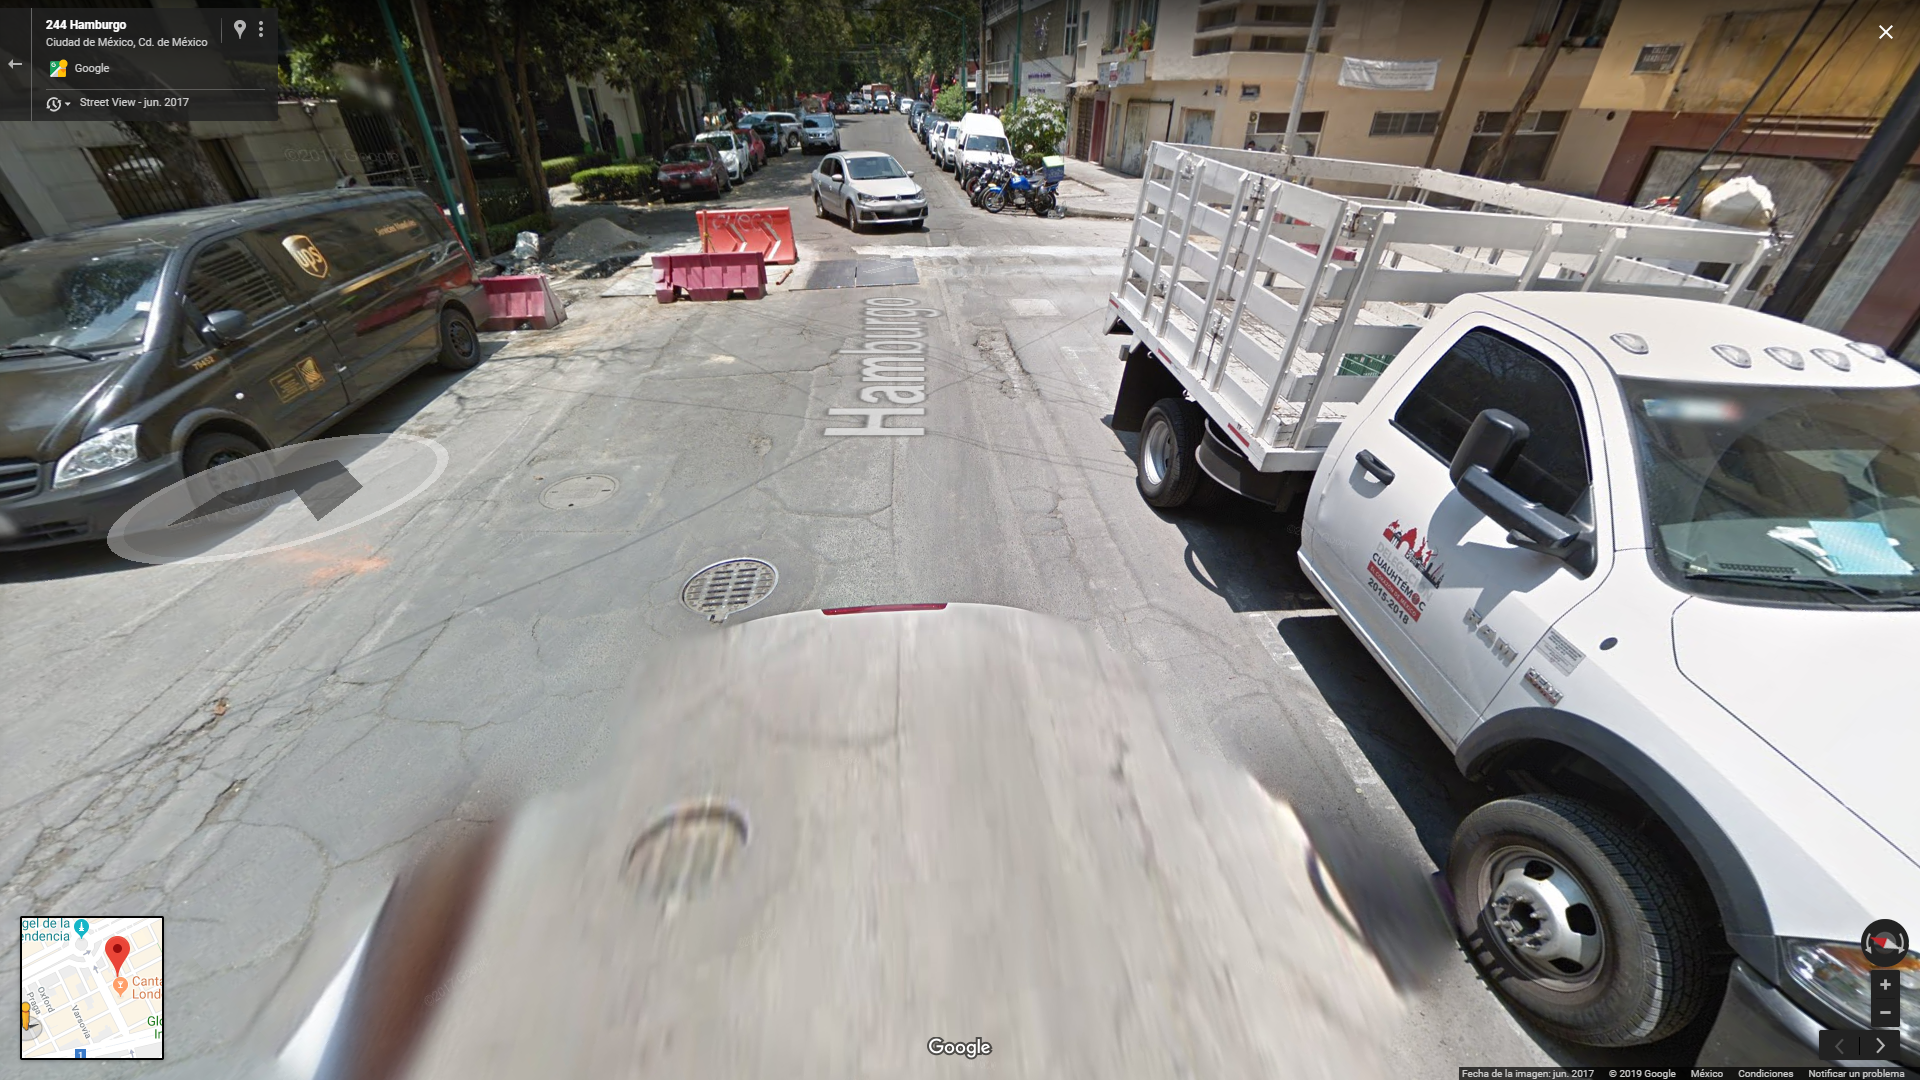pothole: (964, 310, 1040, 414), (845, 233, 981, 272)
